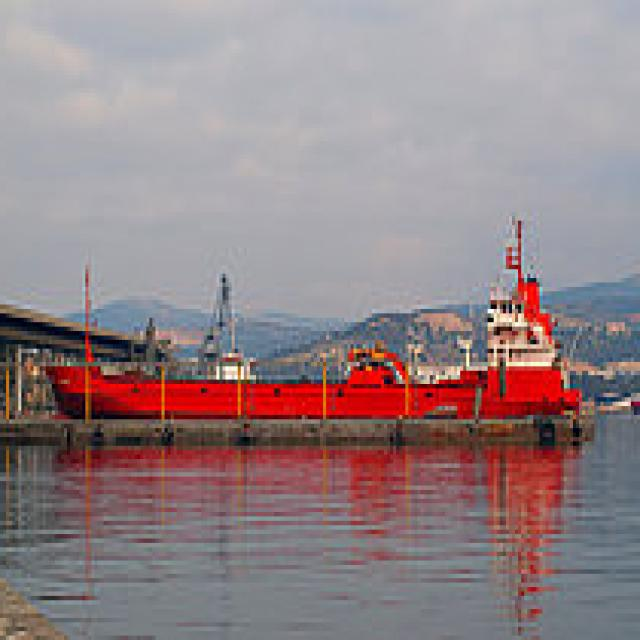Cargo: (40, 207, 585, 415)
